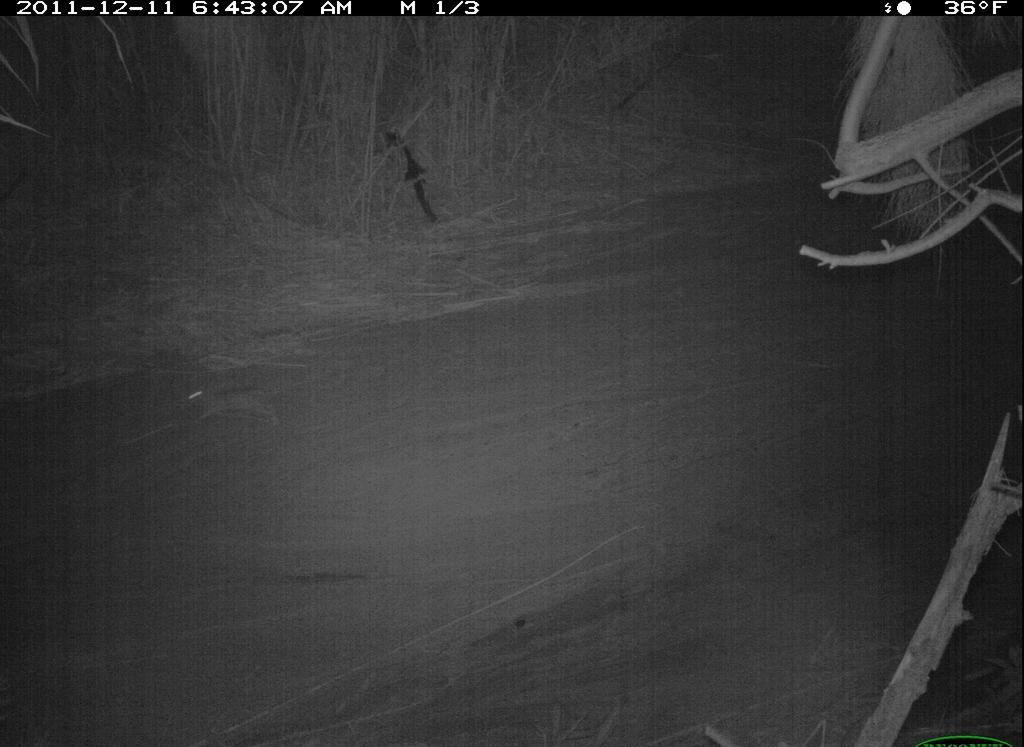rabbit: (196, 374, 292, 438)
